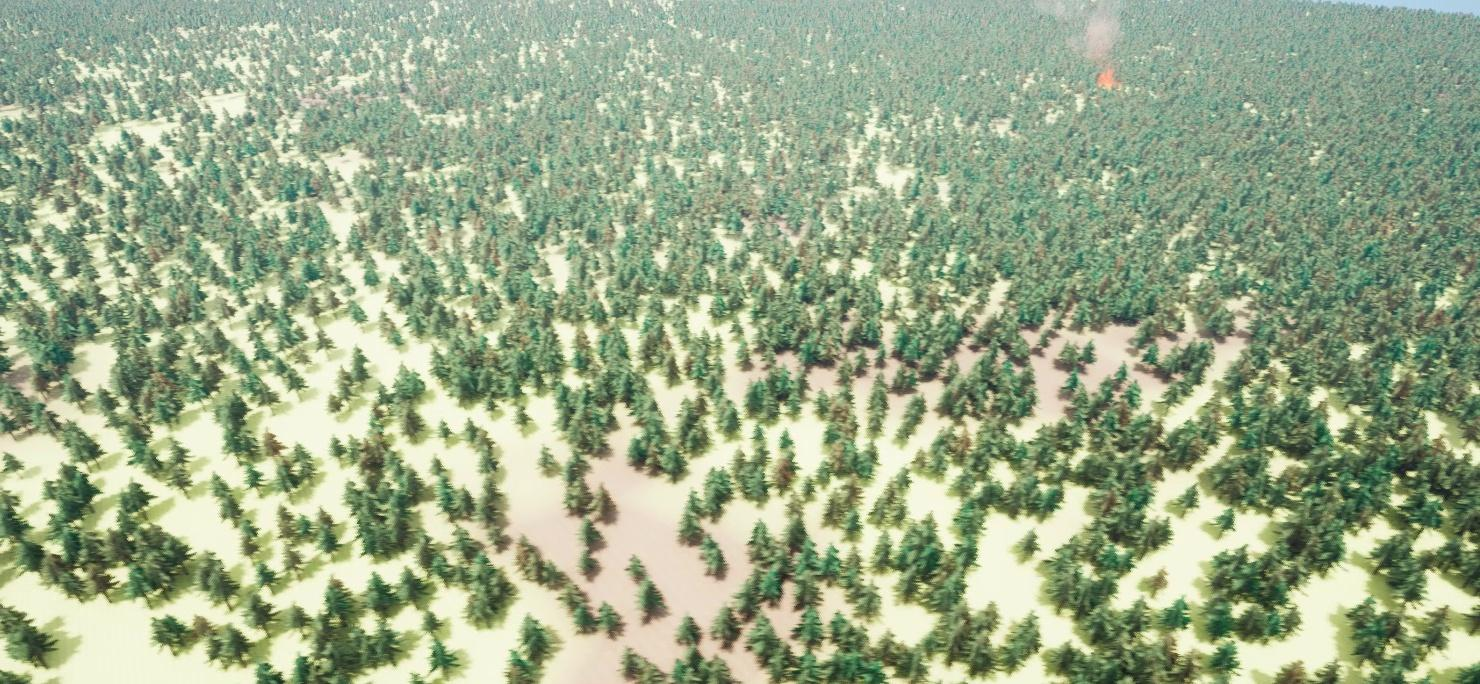fire: (1098, 69, 1123, 90)
smoke: (1041, 0, 1138, 57)
